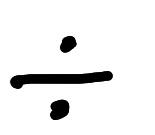div: (10, 36, 112, 121)
